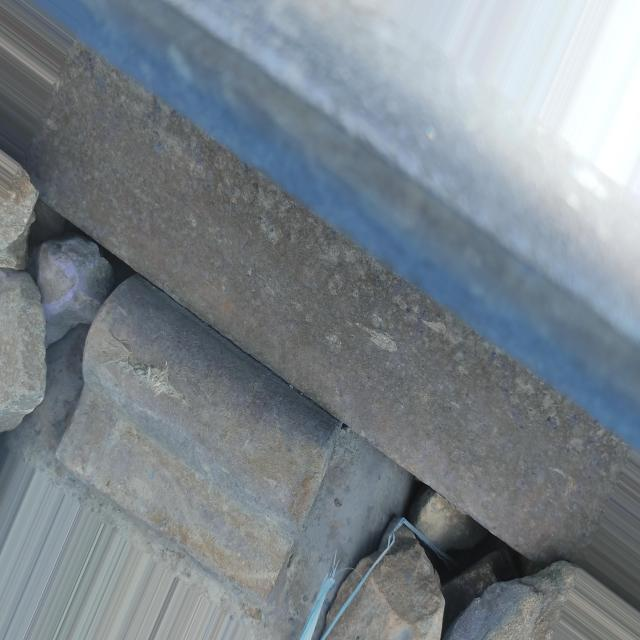Missing Fastener: (46, 265, 352, 605)
